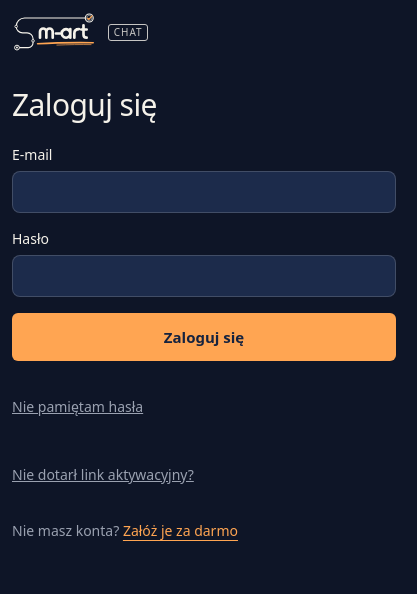
Test case: logowanie (A-04) › złe dane to nadal złe dane
In the field labelled "E-mail": (204, 192) [12,171,396,213], type "szef@firma.pl"
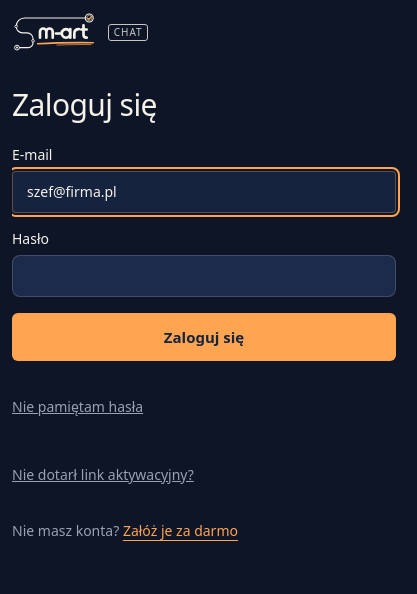
In the password field labelled "Hasło": (204, 276) [12,255,396,297], type "poprawne-haslo"
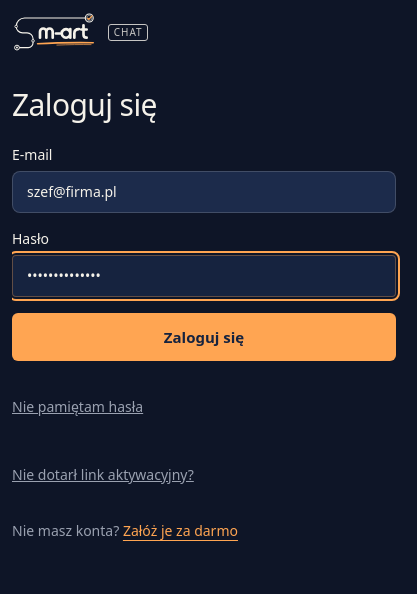
Click the button "Zaloguj się": (204, 337) [12,313,396,361]
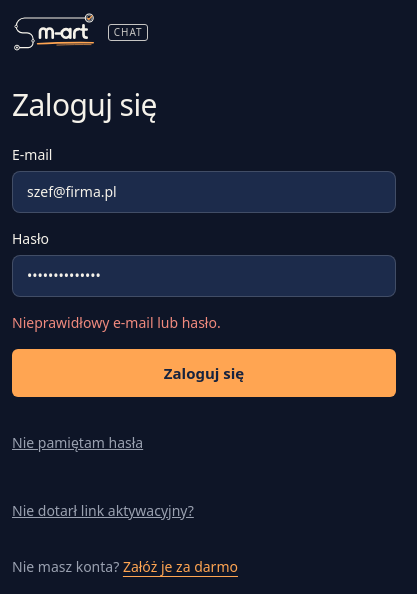
Expected: the message reads "Nieprawidłowy e-mail lub hasło.", [12,313,221,332]
